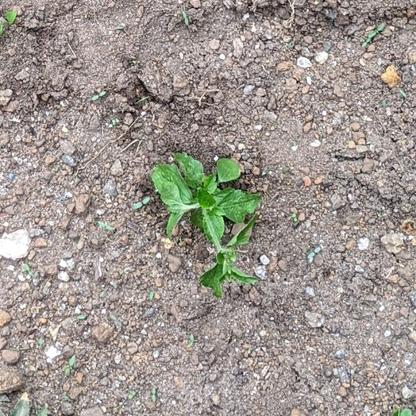weed: (151, 149, 262, 299)
